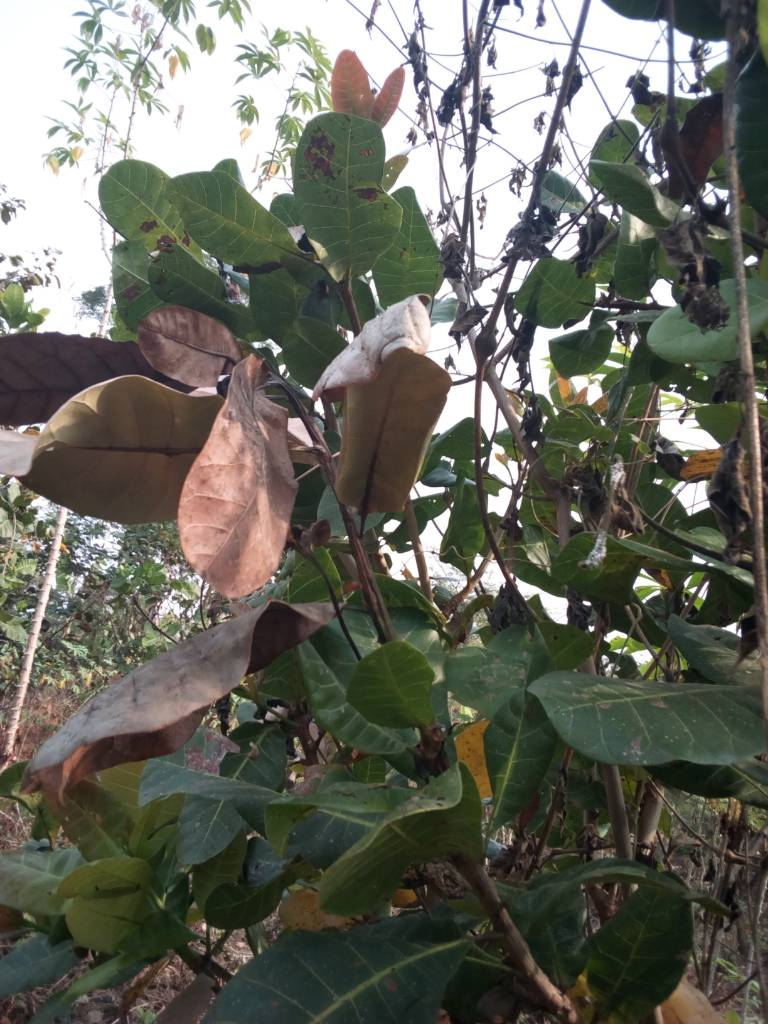Anthracnose: (310, 763, 486, 921), (293, 111, 394, 291), (96, 153, 216, 275)
